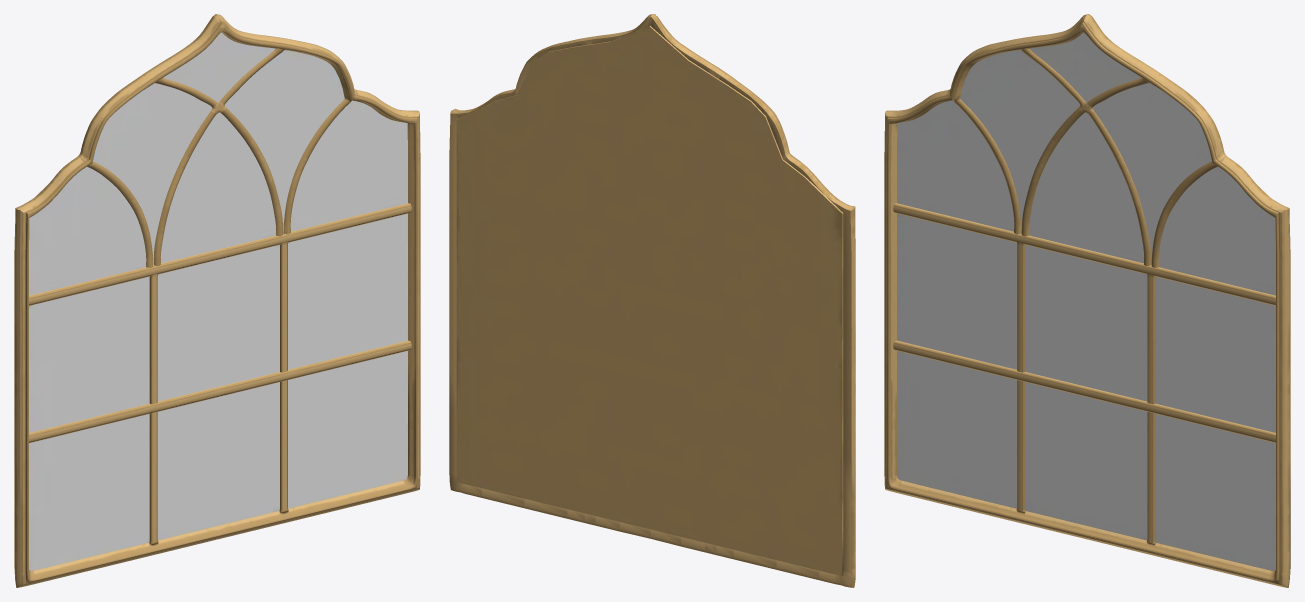
Rendered from abo-B084DQ6BV4.glb.
3 views of the same model, side by side, from view 1: azimuth 30°, elevation 25°; view 2: azimuth 150°, elevation 25°; view 3: azimuth 330°, elevation 25° (orthographic).
Bounding box in the file's own units: 0.513 × 0.635 × 0.018.
Materials: 1 (1 with a texture image).
